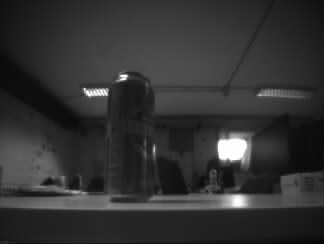Tin can: (108, 72, 156, 201)
